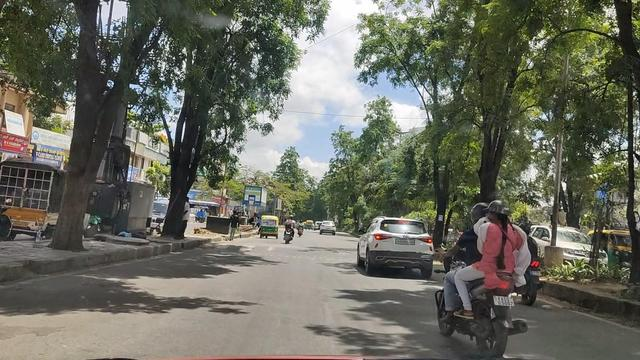LMV: (458, 193, 520, 356), (357, 217, 434, 280)
SpeedBump: (211, 241, 354, 256)
